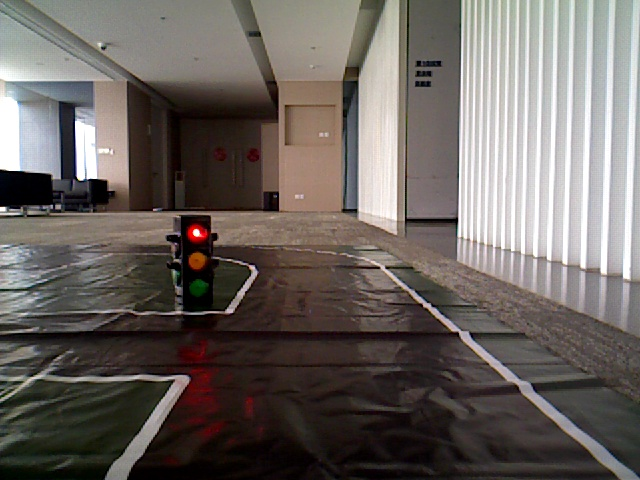red: (180, 219, 212, 305)
